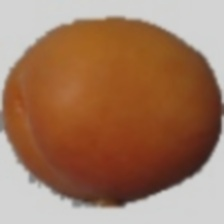apricot: (0, 23, 197, 202)
